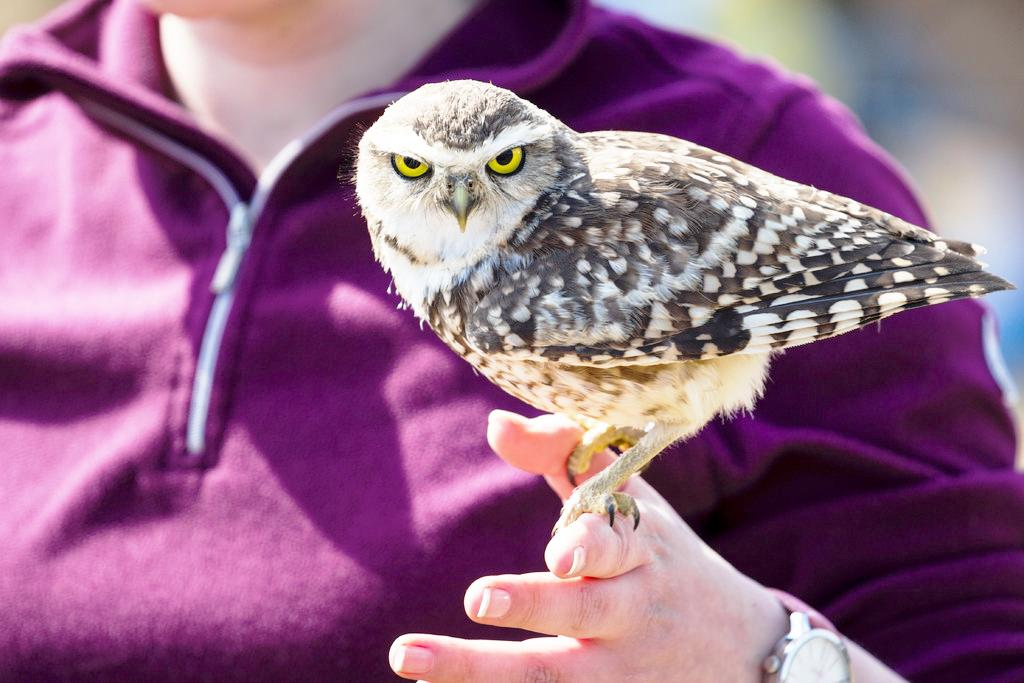Owl: (336, 72, 1024, 549)
